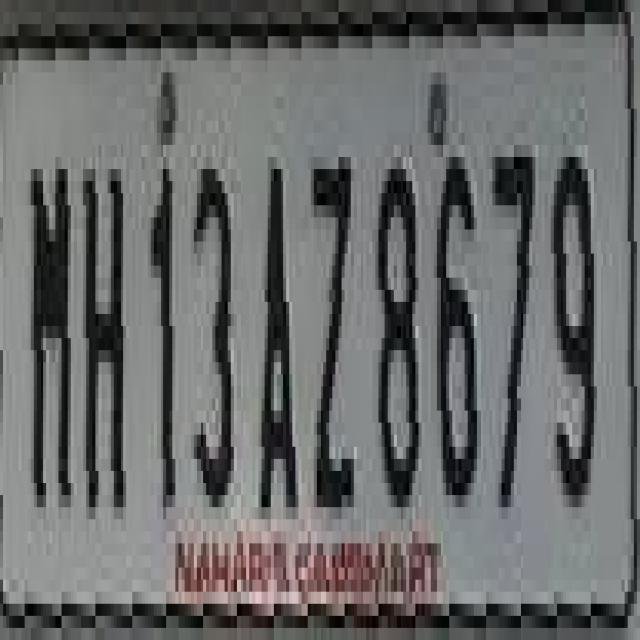plate: (15, 0, 640, 604)
